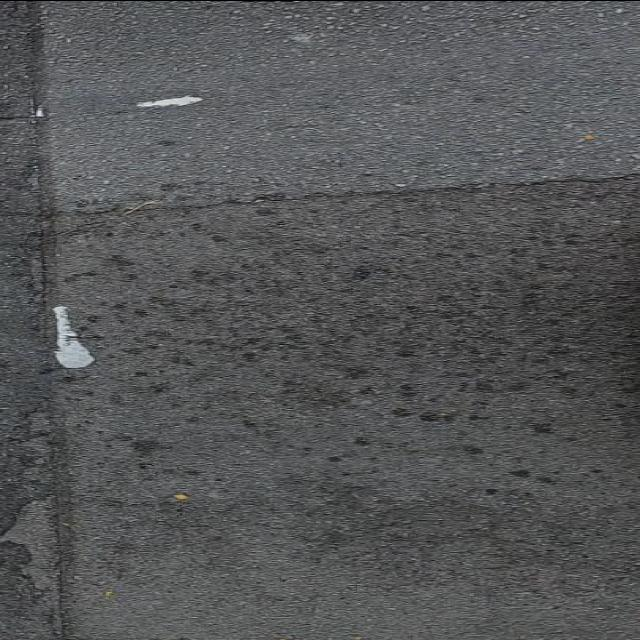cracks: (6, 157, 640, 231)
potholes: (10, 490, 90, 634), (40, 295, 110, 373), (116, 86, 220, 118)
